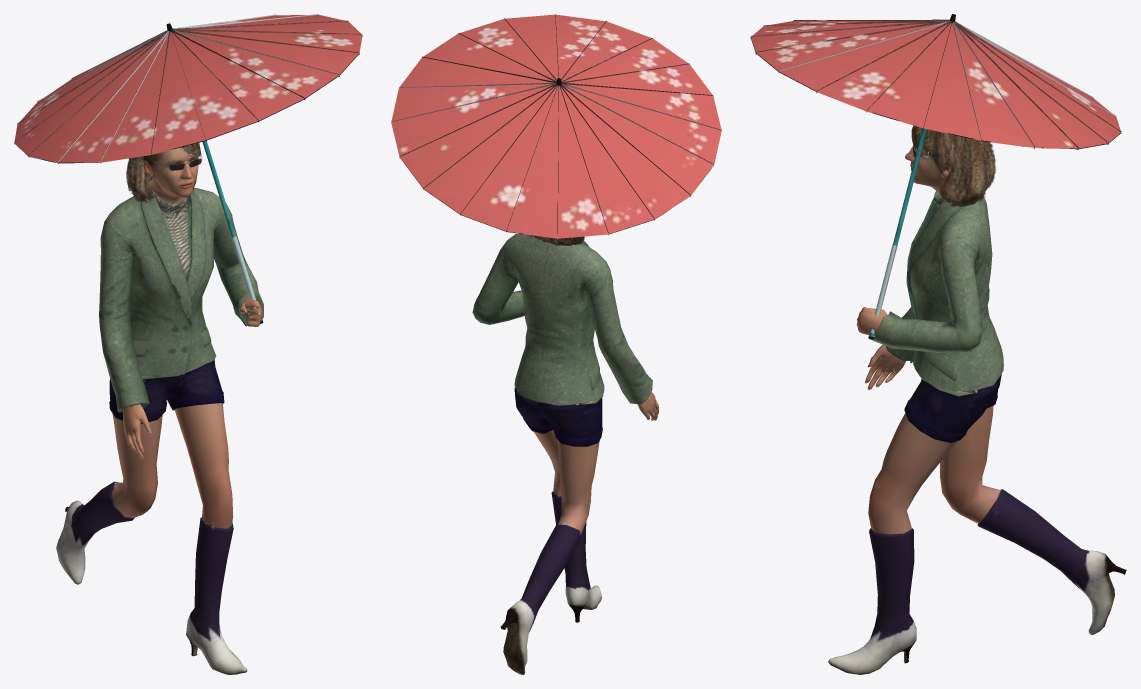
3 renders of one model, left to right at view 1: azimuth 30°, elevation 25°; view 2: azimuth 150°, elevation 25°; view 3: azimuth 270°, elevation 25°, orthographic. The views are drawn at different scales.
Visible parts, largest first — view 1: umbrella202610_w001, umbrella202610_w001_props; view 2: umbrella202610_w001_props, umbrella202610_w001; view 3: umbrella202610_w001, umbrella202610_w001_props.
Boxes of the visible parts, x1,y1,x2,y2 form: umbrella202610_w001: (56,142,263,674); umbrella202610_w001_props: (14,14,362,323); umbrella202610_w001_props: (391,14,721,239); umbrella202610_w001: (472,233,659,674); umbrella202610_w001: (828,125,1126,674); umbrella202610_w001_props: (750,14,1121,339).
Size of the model in its own units: 1.04 by 1.98 by 1.04.
Materials: 2 (2 with a texture image).
